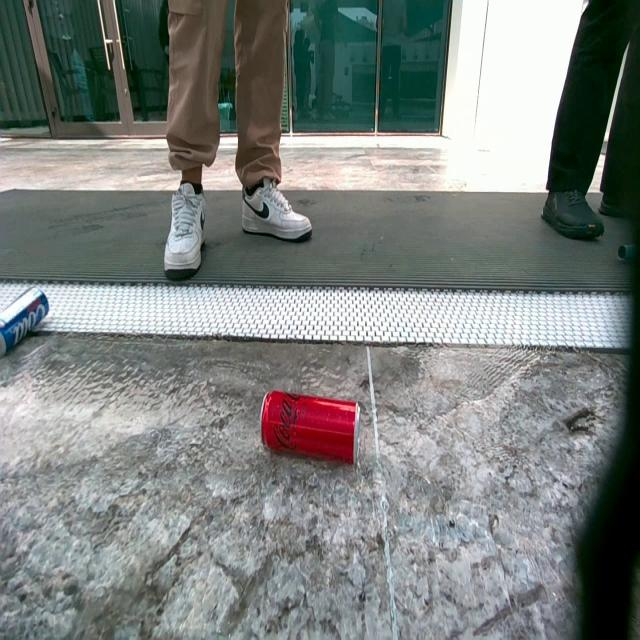Cans: (260, 390, 356, 470), (0, 282, 49, 366)
